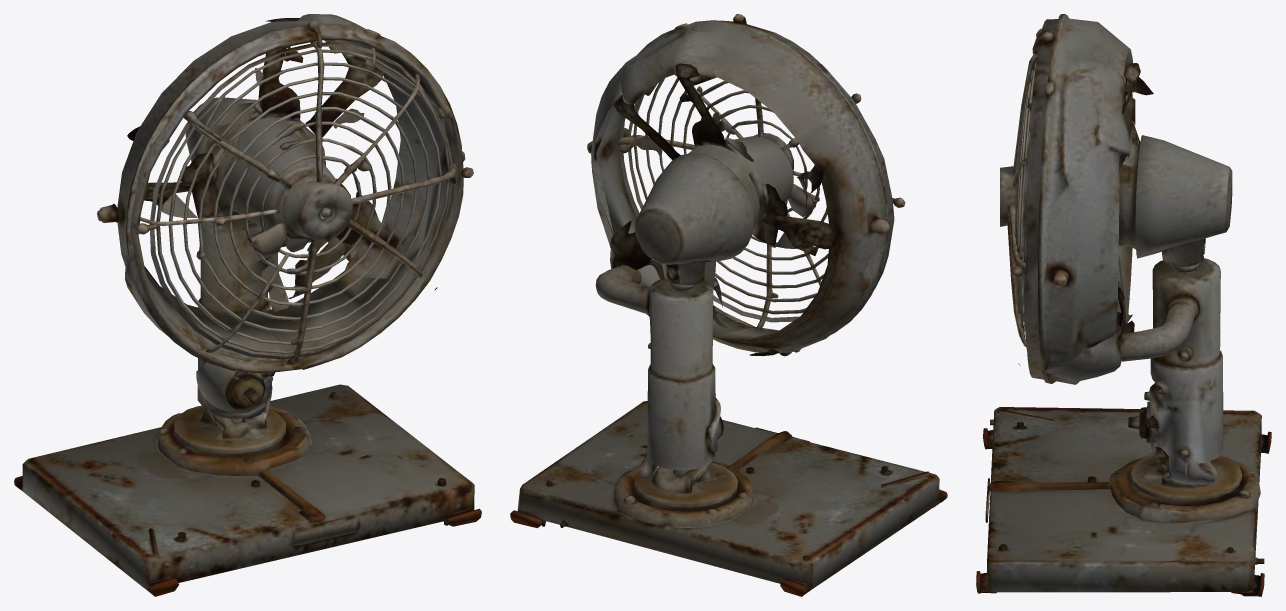
Rendered from prop_fan.glb.
3 renders of one model, left to right at view 1: azimuth 30°, elevation 25°; view 2: azimuth 150°, elevation 25°; view 3: azimuth 270°, elevation 25°, orthographic. The views are drawn at different scales.
Visible parts, largest first — view 1: tripo_node_0c77cbf3-ab00-4bd5-8e17-8b08afa61b30; view 2: tripo_node_0c77cbf3-ab00-4bd5-8e17-8b08afa61b30; view 3: tripo_node_0c77cbf3-ab00-4bd5-8e17-8b08afa61b30.
Part boxes in pixels (left/top/right/bottom): tripo_node_0c77cbf3-ab00-4bd5-8e17-8b08afa61b30: left=14, top=14, right=481, bottom=596; tripo_node_0c77cbf3-ab00-4bd5-8e17-8b08afa61b30: left=510, top=14, right=947, bottom=596; tripo_node_0c77cbf3-ab00-4bd5-8e17-8b08afa61b30: left=976, top=14, right=1271, bottom=596.
Bounding box in the file's own units: 0.7985 × 1.1 × 0.5896.
1 material, 1 textured.
